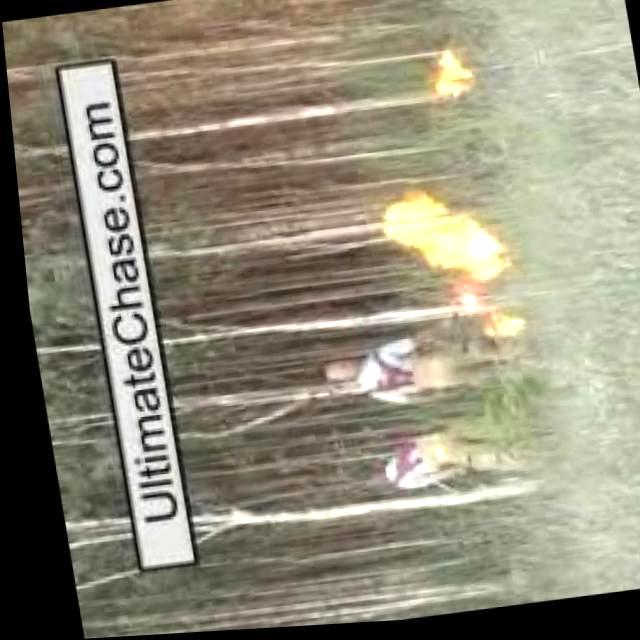fire: (370, 184, 502, 300), (452, 288, 524, 356), (422, 54, 478, 106)
